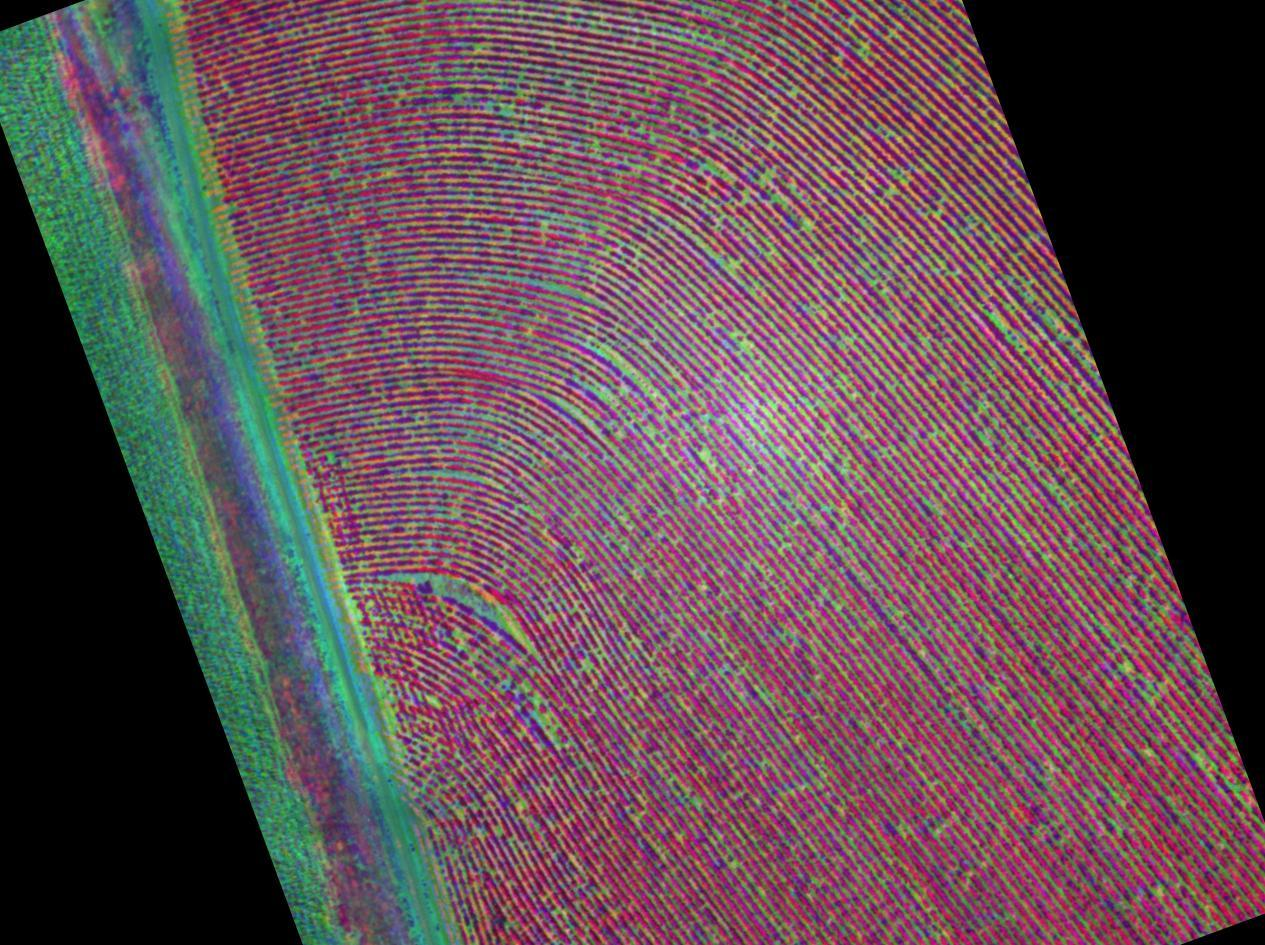dc: (558, 318, 684, 442), (396, 560, 517, 682), (376, 53, 495, 157), (688, 168, 788, 270), (583, 8, 677, 70)
